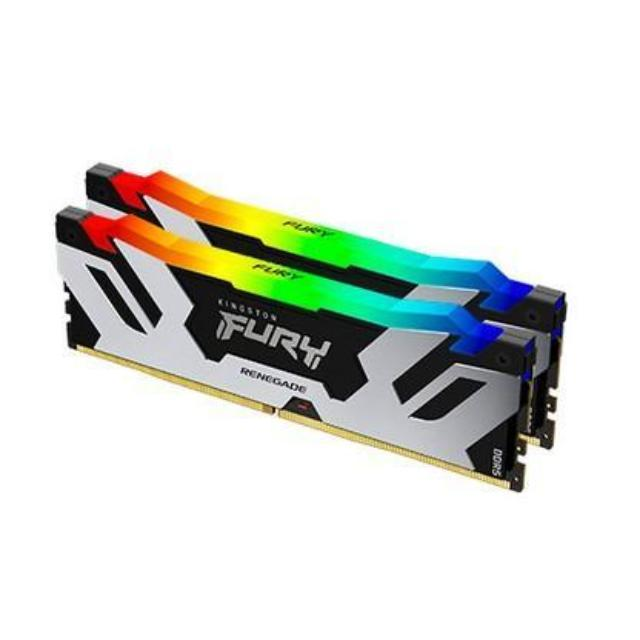RAM: (50, 156, 572, 494)
